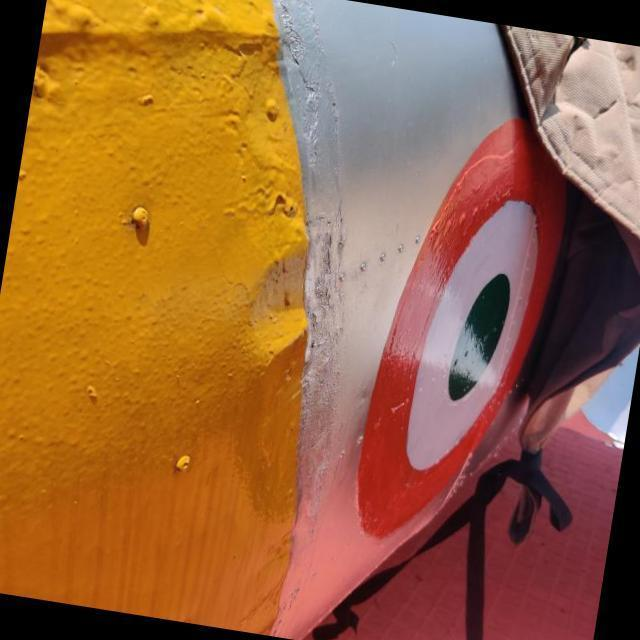dent: (234, 235, 306, 362)
